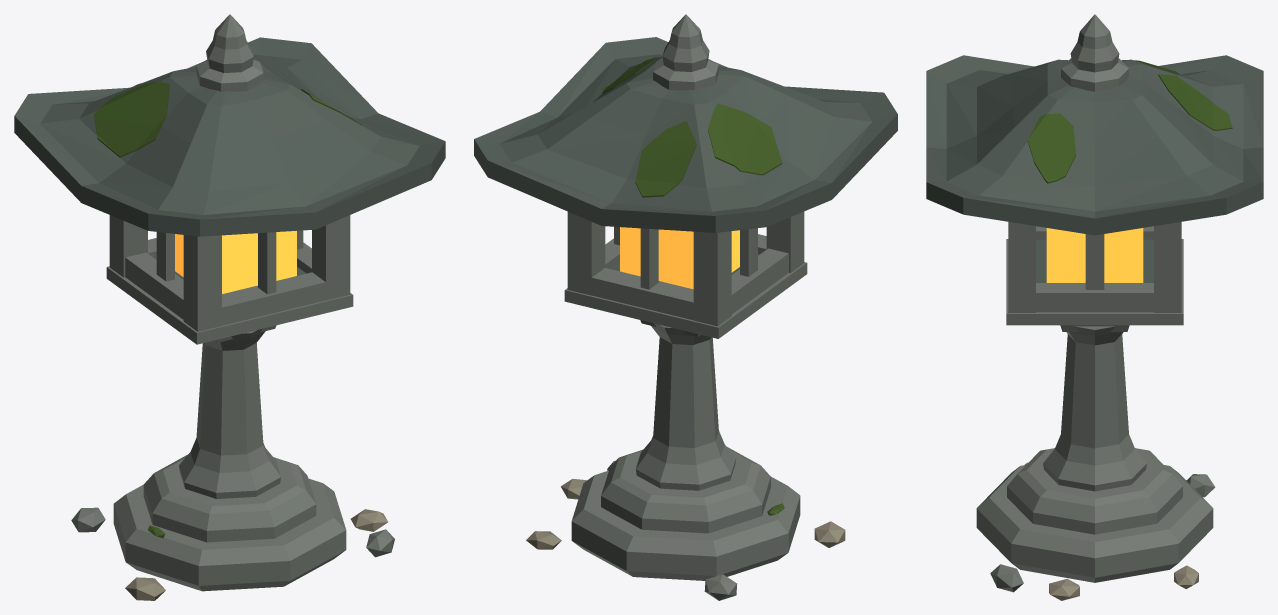
File: lamp.glb
The picture shows the model from 3 angles, left to right: view 1: azimuth 30°, elevation 25°; view 2: azimuth 150°, elevation 25°; view 3: azimuth 270°, elevation 25°; orthographic projection.
Parts seen in each view (by area): view 1: lantern.roof, lantern.base, lantern.shaft, lantern.moss.roof_1, member-1, lantern.seat, lantern.light, lantern.finial, member-6, member-3, member-5, member-0 (+6 smaller); view 2: lantern.roof, lantern.base, lantern.shaft, lantern.moss.roof_1, member-0, lantern.seat, lantern.light, lantern.finial, lantern.moss.roof_2, member-4, member-2, member-5 (+5 smaller); view 3: lantern.roof, lantern.base, lantern.shaft, lantern.light, member-7, lantern.finial, lantern.seat, lantern.moss.roof_3, member-2, member-3, lantern.moss.roof_2, member-15 (+3 smaller).
Boxes of the visible parts, x1,y1,x2,y2 form: lantern.roof: (14, 37, 445, 236); lantern.base: (113, 454, 346, 591); lantern.shaft: (179, 328, 280, 498); lantern.moss.roof_1: (94, 81, 169, 157); member-1: (183, 235, 221, 331); lantern.seat: (106, 266, 353, 344); lantern.light: (175, 231, 296, 293); lantern.finial: (196, 14, 263, 91); member-6: (222, 272, 325, 325); member-3: (312, 215, 350, 300); member-5: (125, 252, 183, 319); member-0: (109, 215, 147, 277); lantern.roof: (474, 37, 897, 232); lantern.base: (571, 447, 800, 580); lantern.shaft: (635, 323, 735, 490); lantern.moss.roof_1: (708, 103, 782, 175); member-0: (693, 231, 731, 326); lantern.seat: (564, 262, 807, 338); lantern.light: (620, 227, 739, 289); lantern.finial: (653, 14, 718, 90); lantern.moss.roof_2: (635, 121, 696, 197); member-4: (591, 268, 693, 320); member-2: (567, 211, 605, 295); member-5: (731, 248, 788, 313); lantern.roof: (926, 55, 1263, 235); lantern.base: (976, 448, 1213, 582); lantern.shaft: (1043, 326, 1146, 491); lantern.light: (1046, 228, 1143, 282); member-7: (1036, 283, 1153, 312); lantern.finial: (1061, 14, 1128, 91); lantern.seat: (1006, 239, 1183, 331); lantern.moss.roof_3: (1027, 113, 1075, 183); member-2: (1154, 222, 1181, 312); member-3: (1008, 222, 1035, 312); lantern.moss.roof_2: (1158, 74, 1232, 130); member-15: (1085, 234, 1104, 289).
Size of the model in its own units: 0.94 by 1.61 by 0.94.
